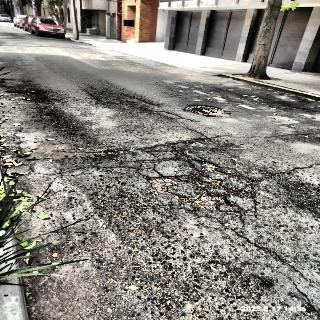alligator-crack: (129, 141, 270, 213)
crack: (223, 225, 320, 313), (274, 162, 320, 181), (259, 130, 320, 142)
